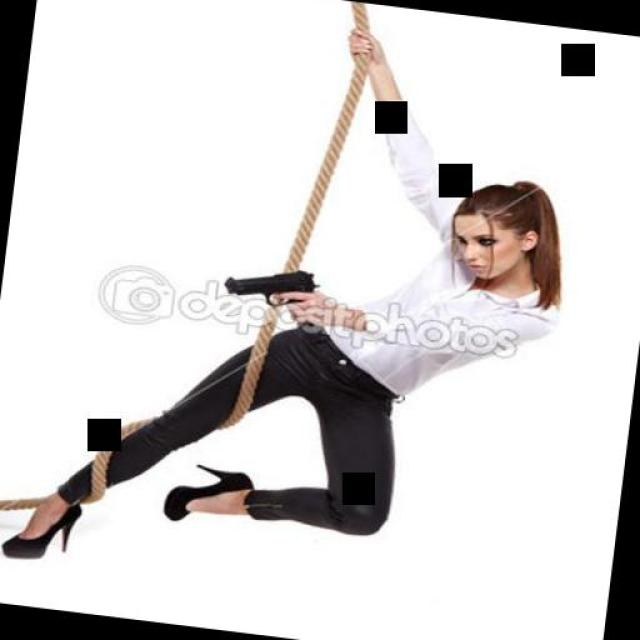gun: (210, 252, 331, 340)
